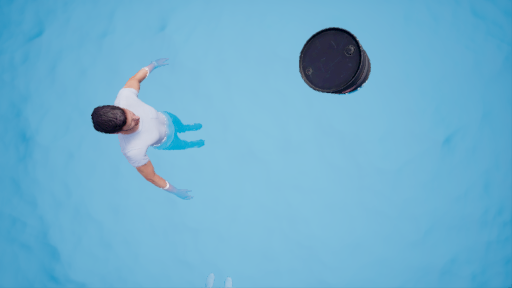person: (97, 59, 222, 207)
